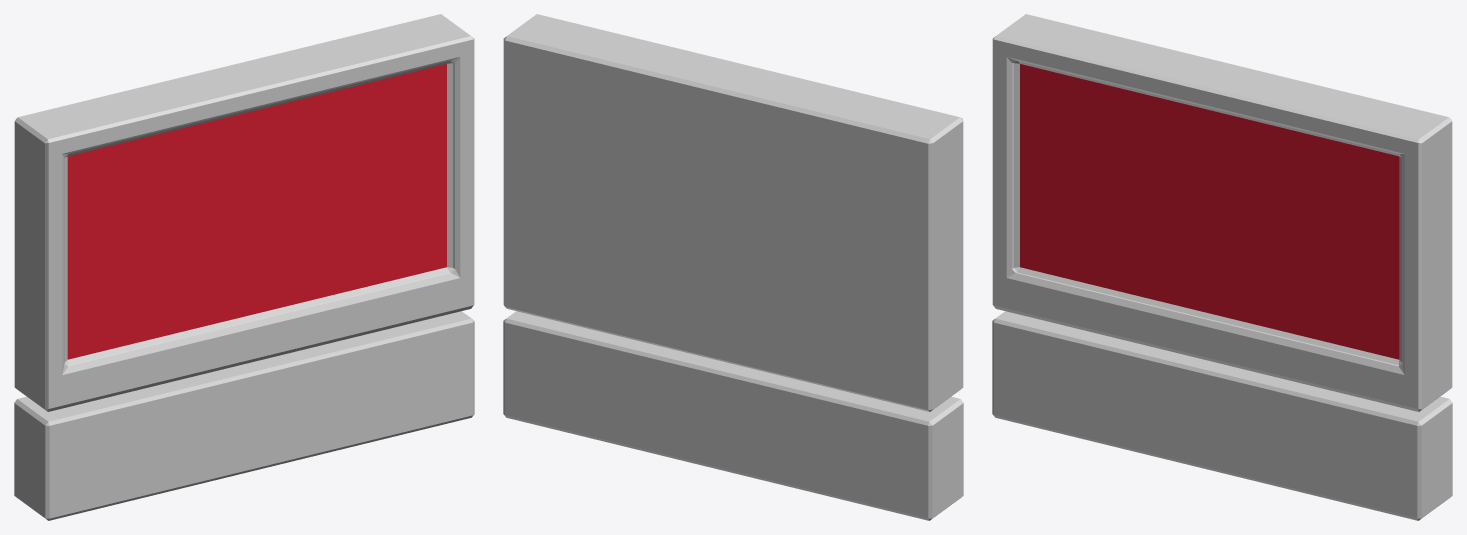
The model's file is nav-station.fbx.
3 renders of one model, left to right at view 1: azimuth 30°, elevation 25°; view 2: azimuth 150°, elevation 25°; view 3: azimuth 330°, elevation 25°, orthographic.
Parts seen in each view (by area): view 1: screen, monitor, keyboard; view 2: monitor, keyboard; view 3: screen, monitor, keyboard.
Boxes of the visible parts, x1,y1,x2,y2 form: screen: (67, 64, 446, 359); monitor: (14, 14, 474, 411); keyboard: (14, 311, 474, 520); monitor: (503, 14, 963, 411); keyboard: (503, 311, 963, 520); screen: (1020, 64, 1399, 359); monitor: (992, 14, 1452, 411); keyboard: (992, 311, 1452, 520).
Bounding box in the file's own units: 1.4 × 0.19 × 1.19.
